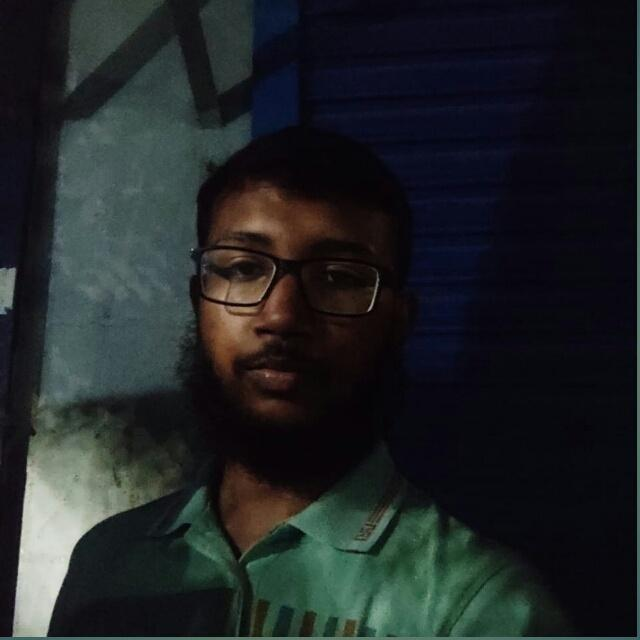Natural: (163, 148, 416, 483)
